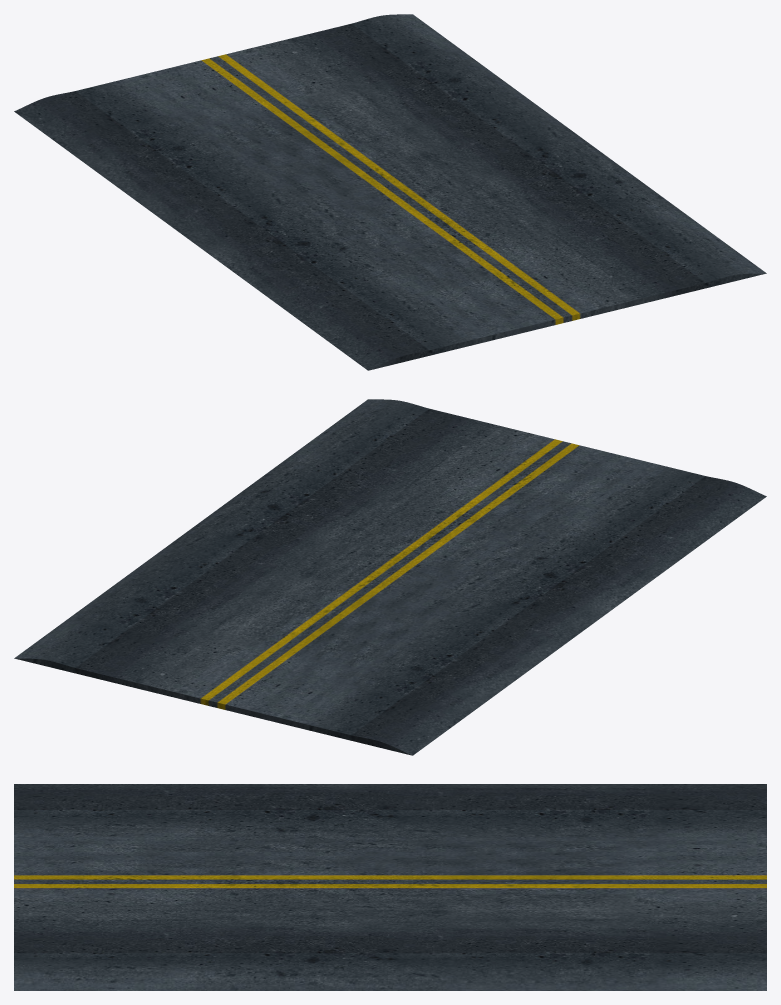
File: Straight.FBX
3 views of the same model, one above another, from view 1: azimuth 30°, elevation 25°; view 2: azimuth 150°, elevation 25°; view 3: azimuth 270°, elevation 25° (orthographic). The views are drawn at different scales.
Visible parts, largest first — view 1: Line001; view 2: Line001; view 3: Line001.
Part boxes in pixels (x1,y1,x2,y2): Line001: (14, 14, 766, 370); Line001: (14, 399, 766, 755); Line001: (14, 784, 766, 990).
Bounding box in the file's own units: 650 × 9.99 × 1000.
1 material, 1 textured.
